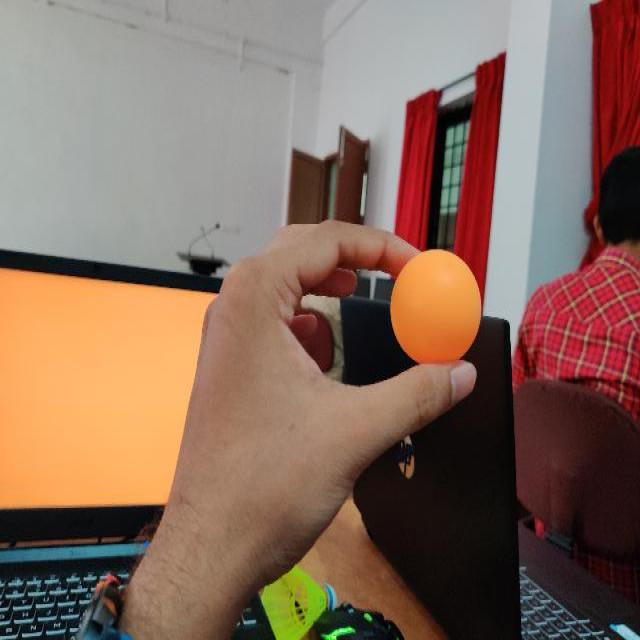ping-pong-ball: (388, 247, 480, 364)
